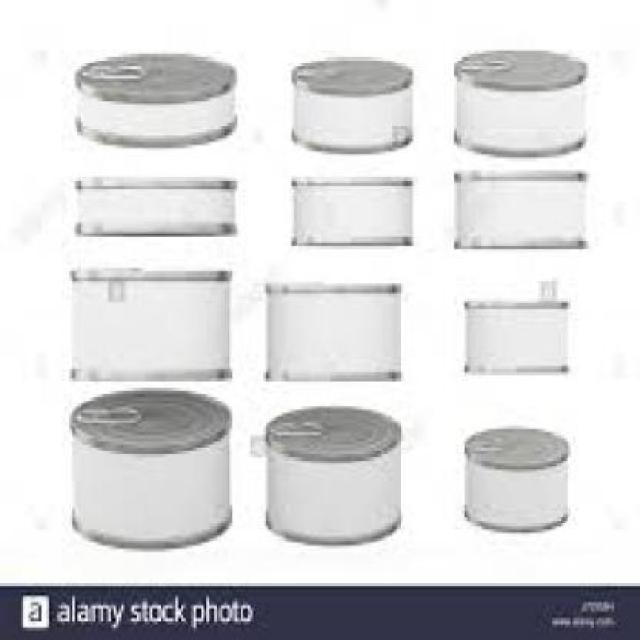METAL: (69, 388, 228, 546), (263, 404, 397, 542), (67, 262, 227, 376), (72, 47, 236, 145), (452, 44, 586, 151), (263, 277, 397, 375), (289, 53, 411, 152), (462, 425, 568, 530), (449, 167, 586, 245), (460, 274, 568, 369), (74, 173, 234, 236), (286, 177, 411, 246)
